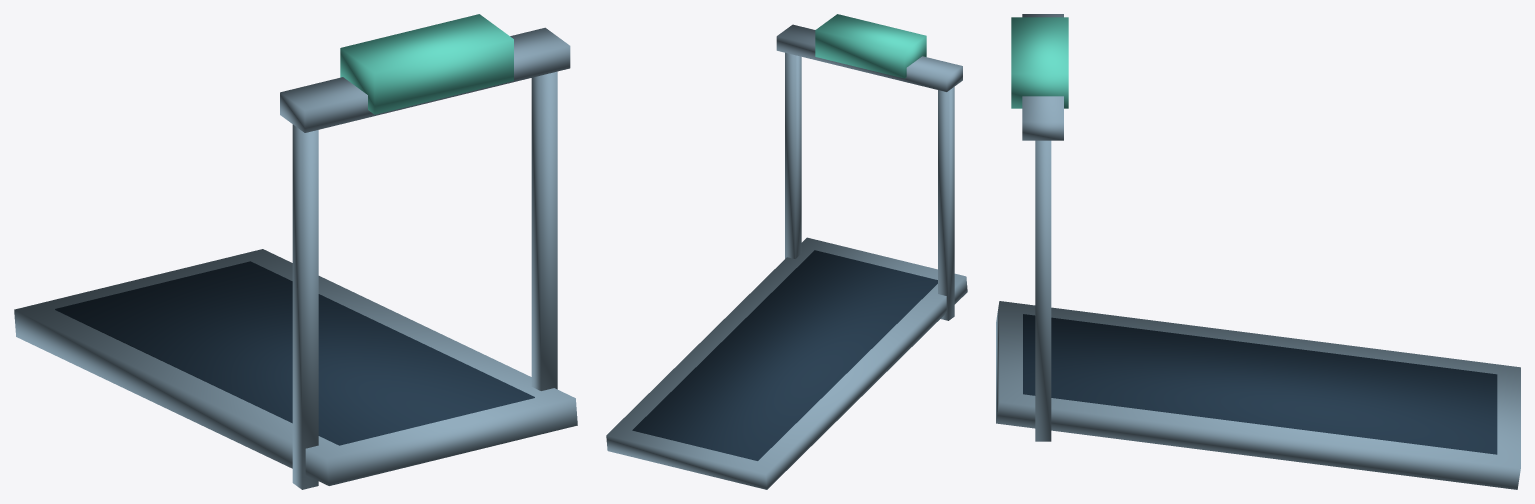
Rendered from treadmill.glb.
3 renders of one model, left to right at view 1: azimuth 30°, elevation 25°; view 2: azimuth 150°, elevation 25°; view 3: azimuth 270°, elevation 25°, orthographic. The views are drawn at different scales.
Visible parts, largest first — view 1: belt, deck, rails, console; view 2: belt, deck, rails, console; view 3: belt, deck, rails, console.
Part boxes in pixels (x1,y1,x2,y2): belt: (55, 261, 534, 445); deck: (14, 249, 577, 485); rails: (280, 27, 570, 489); console: (340, 14, 513, 114); belt: (632, 250, 937, 460); deck: (606, 237, 967, 489); rails: (776, 24, 962, 320); console: (815, 14, 926, 78); belt: (1023, 314, 1497, 454); deck: (996, 301, 1520, 489); rails: (1022, 14, 1063, 441); console: (1011, 17, 1068, 108).
Bounding box in the file's own units: 0.8 × 1.36 × 1.64.
